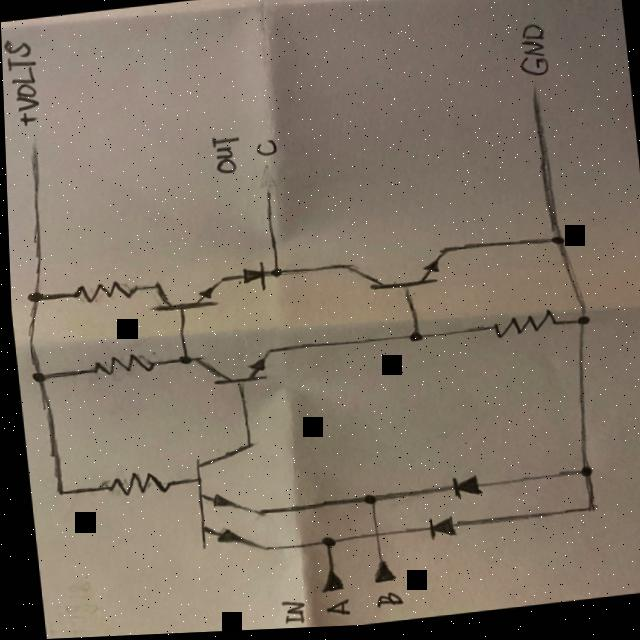crossover: (363, 532, 378, 544)
diode: (415, 511, 456, 548), (440, 474, 480, 507), (233, 258, 265, 297)
junction: (304, 532, 338, 556), (15, 286, 45, 311), (564, 315, 591, 339), (568, 464, 593, 489), (539, 235, 568, 256), (21, 365, 47, 388), (351, 492, 379, 513), (572, 501, 598, 523), (396, 328, 423, 349), (42, 483, 66, 502), (166, 352, 188, 370), (264, 268, 280, 283)
resistor: (481, 311, 556, 347), (95, 467, 168, 502), (64, 276, 137, 309), (81, 351, 155, 383)
terminal: (513, 85, 546, 118), (249, 174, 276, 212), (307, 570, 340, 601), (15, 136, 42, 171), (362, 560, 392, 589)
text: (1, 36, 40, 113), (507, 26, 553, 85), (204, 130, 242, 180), (269, 600, 302, 631), (366, 592, 402, 616), (315, 601, 347, 625), (249, 137, 276, 162), (13, 111, 37, 128)
transistor: (175, 429, 274, 568), (337, 237, 452, 302), (140, 267, 228, 320), (188, 340, 275, 393)
